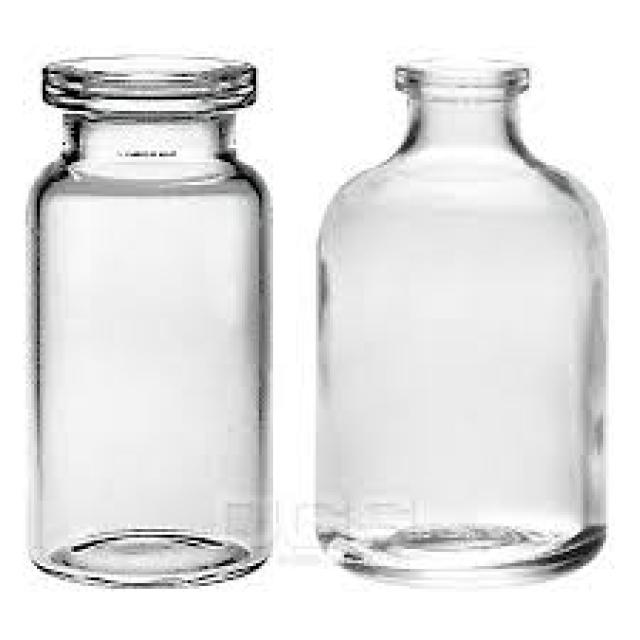glass: (316, 57, 603, 577), (23, 57, 270, 586)
